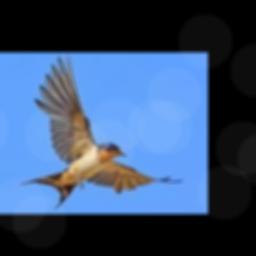Swallow: (18, 56, 182, 210)
